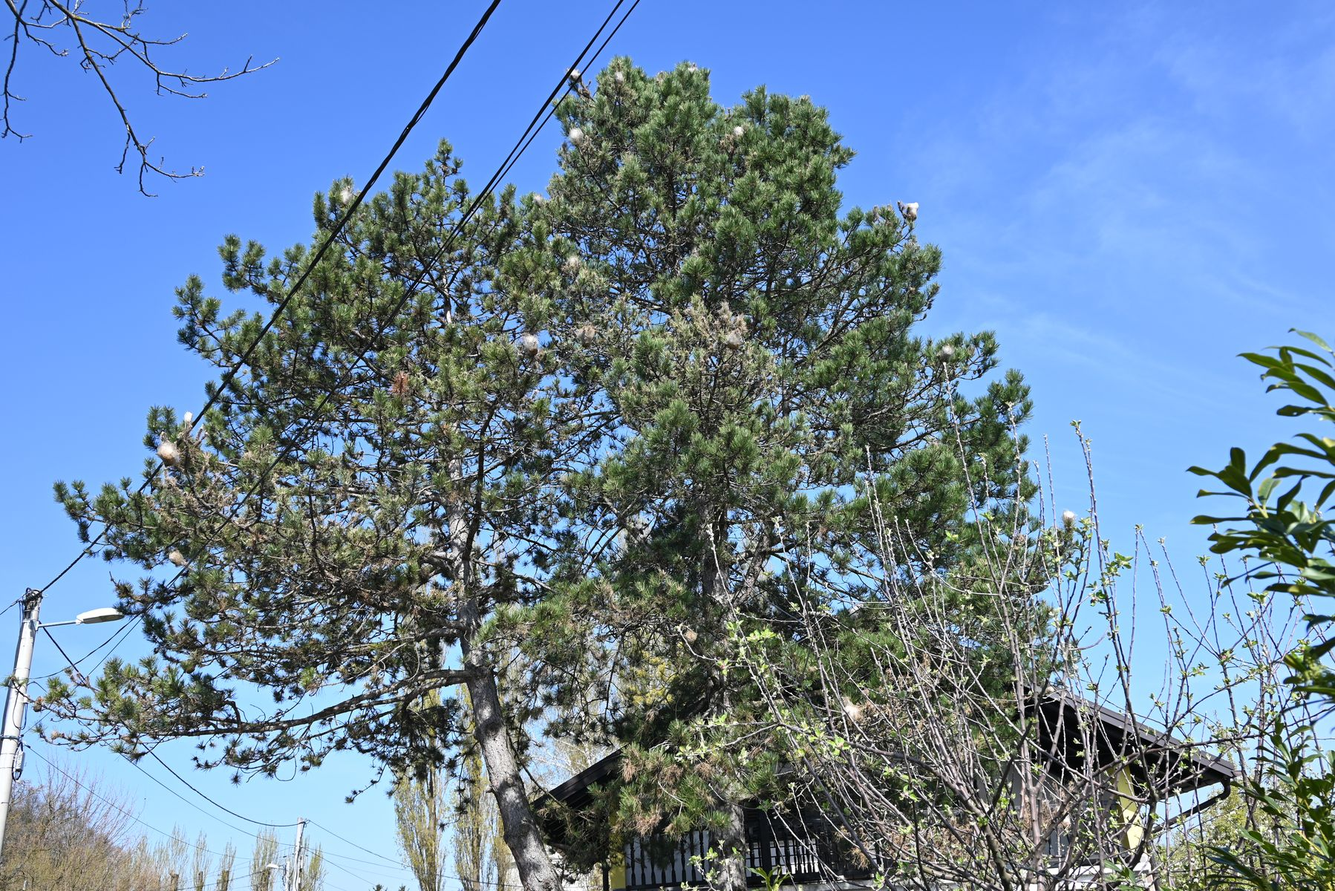thaumatopoea pityocampa jajno gnijezdo: (840, 699, 867, 724), (158, 441, 182, 465), (521, 333, 541, 354), (902, 203, 921, 223), (1060, 510, 1078, 530), (565, 254, 583, 273), (168, 552, 186, 567), (182, 411, 197, 426), (940, 344, 956, 358), (569, 127, 583, 142), (339, 189, 353, 204), (733, 124, 746, 138), (570, 68, 581, 80), (533, 194, 543, 205), (615, 72, 624, 83), (688, 65, 696, 74)
